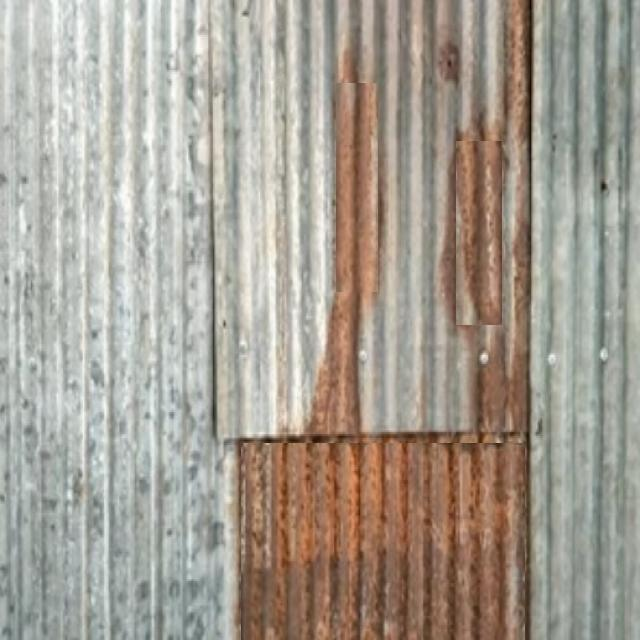Corrosion: (241, 434, 529, 640), (308, 52, 379, 434), (457, 141, 503, 326), (474, 326, 528, 432), (505, 0, 531, 142), (505, 198, 531, 330)
